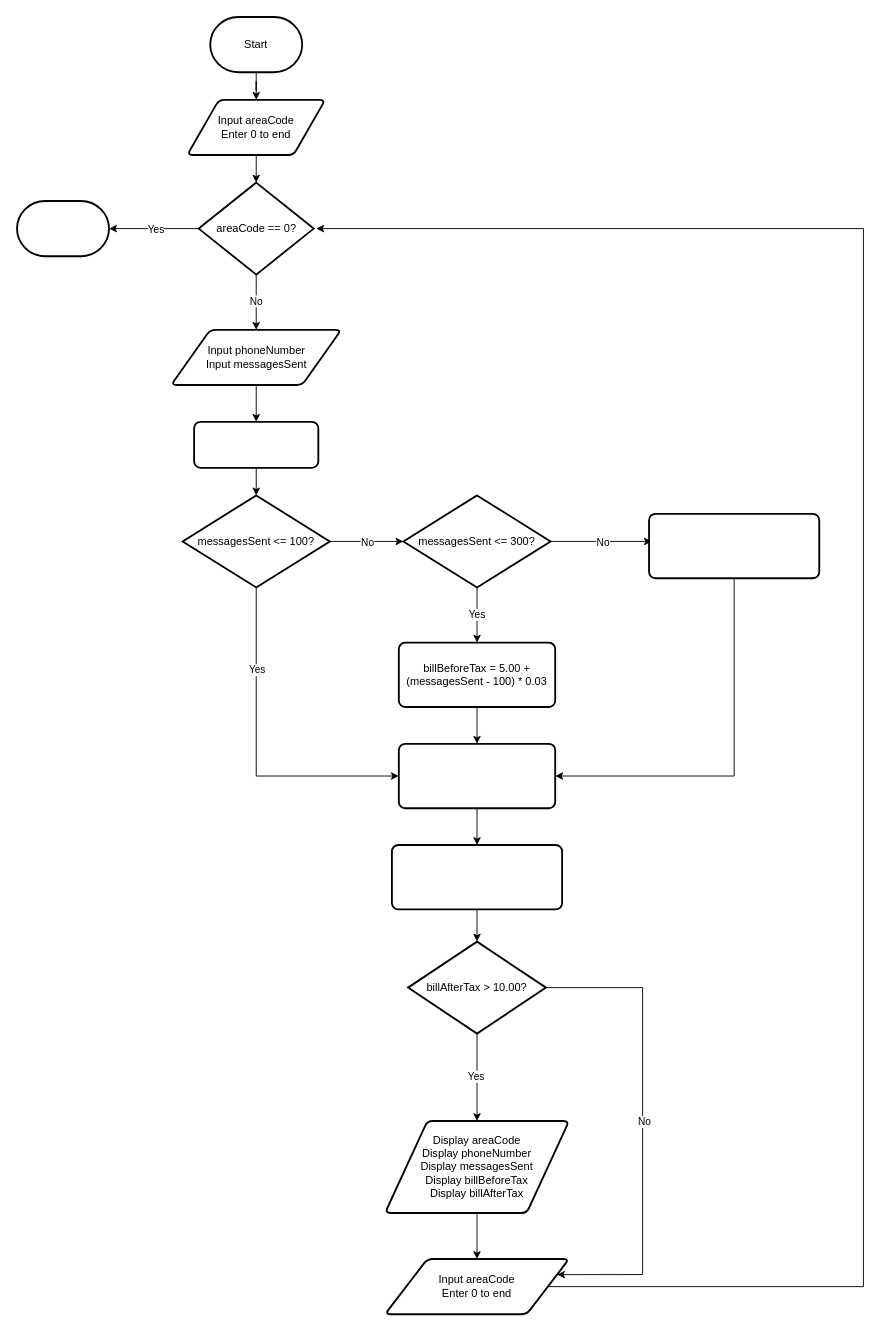
The diagram is 887 pixels wide and 1330 high, and some of its shapes have lost their labels. Each missing label, with the centre of its shape:
"billAfterTax = billBeforeTax + tax" belongs at (477,877).
"billBeforeTax = 5.00" belongs at (256,444).
"billBeforeTax = 5.00 + (200 * 0.03) + (messagesSent - 300) * 0.02" belongs at (734,545).
"End" belongs at (62,228).
"tax = billBeforeTax * 0.14" belongs at (476,775).
